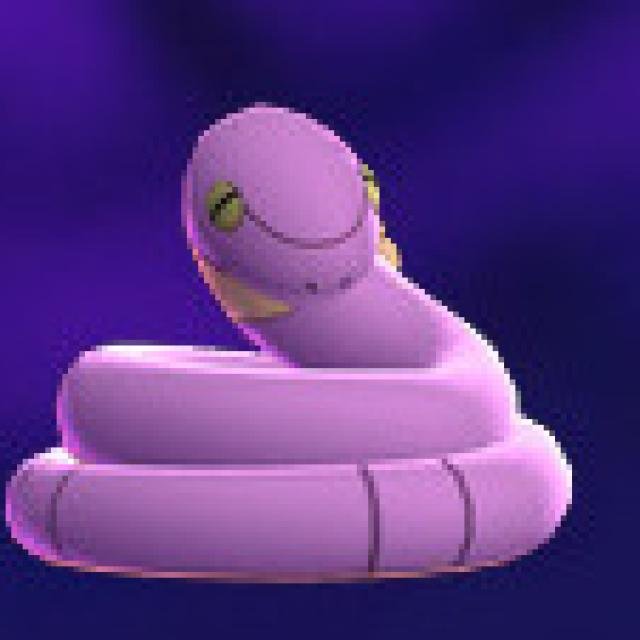Ekans: (11, 101, 564, 592)
